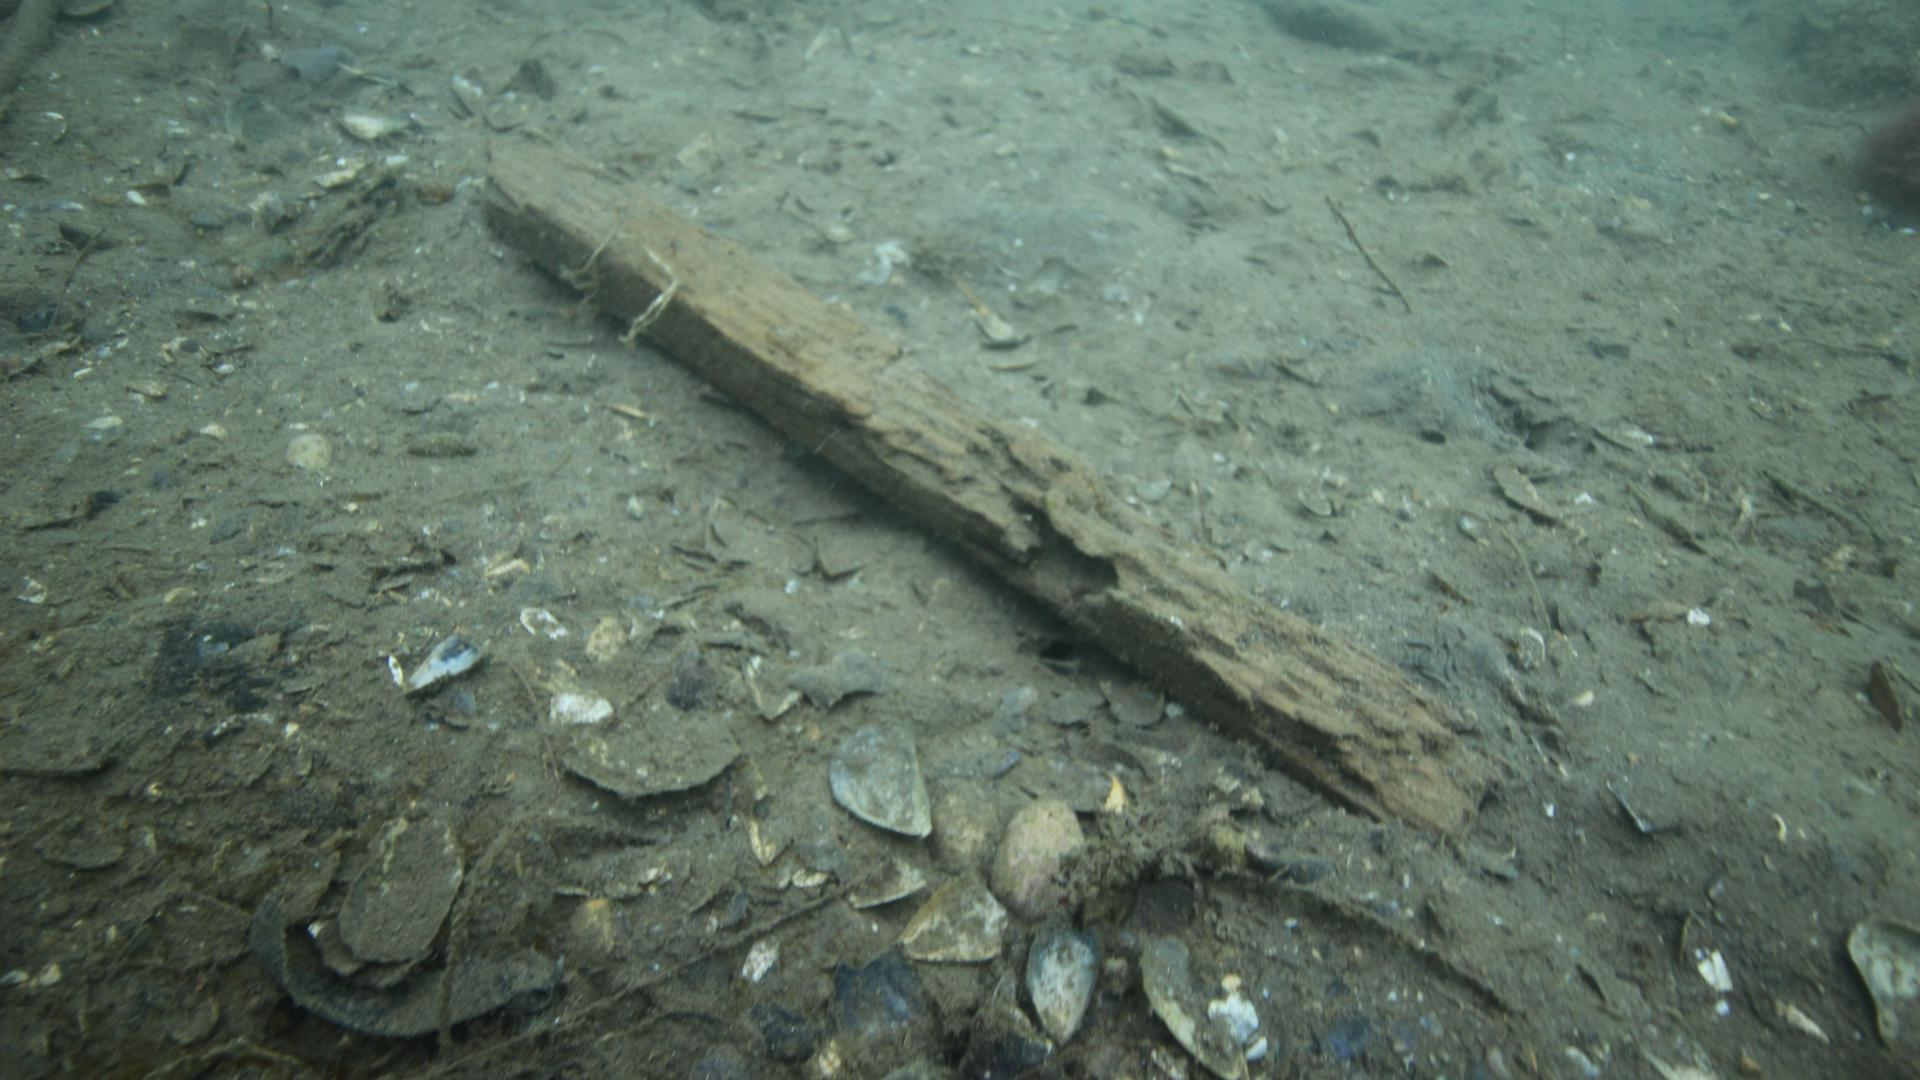wood: (475, 127, 1498, 837)
